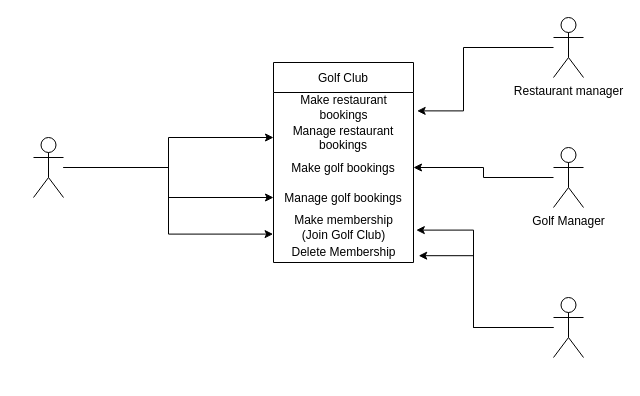
The diagram is 640 pixels wide and 396 high, and some of its shapes have lost their labels. Each missing label, with the centre of its shape:
Club Owner: [48,167]
Member: [568,327]
